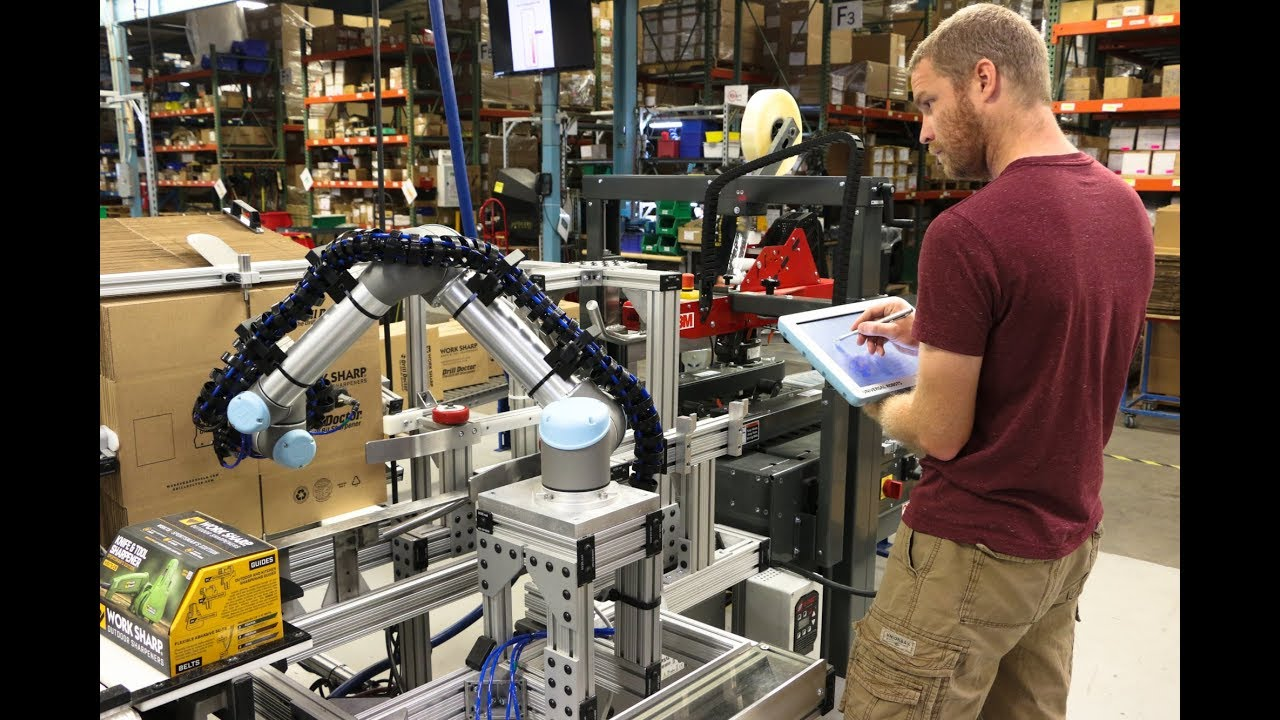person: (855, 3, 1153, 710)
robot: (186, 222, 670, 528)
